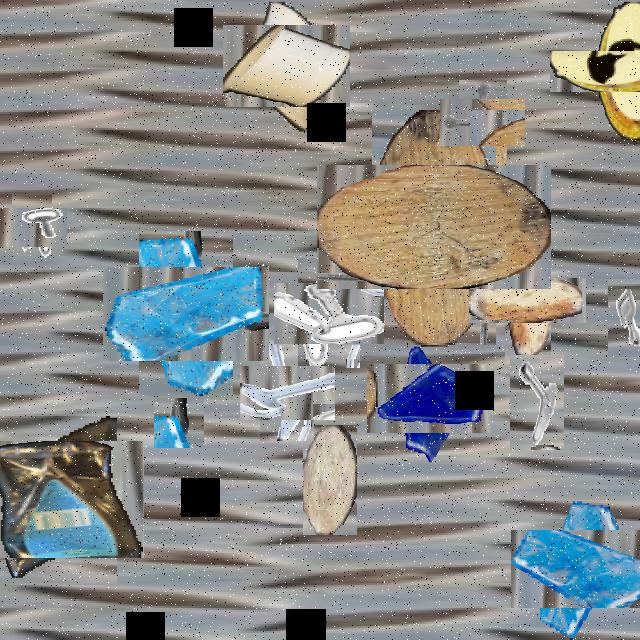glass: (121, 249, 251, 380), (525, 515, 633, 623), (380, 349, 478, 447)
metal: (435, 188, 521, 274), (286, 270, 372, 356), (250, 356, 324, 430), (510, 356, 564, 452), (154, 359, 204, 448), (450, 89, 516, 156), (4, 200, 60, 255), (608, 279, 640, 357)
plastic: (0, 427, 130, 571), (234, 13, 338, 118), (574, 25, 640, 116)
wood: (344, 138, 524, 317), (487, 260, 569, 341), (303, 425, 357, 535)
